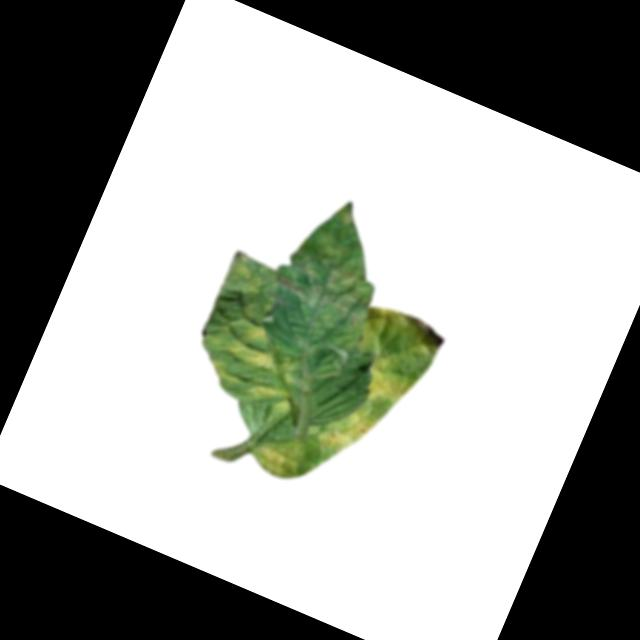Leaf_Mold: (266, 186, 399, 327), (202, 314, 303, 411), (349, 296, 449, 373), (318, 392, 385, 463), (353, 347, 421, 412), (250, 424, 311, 485)
